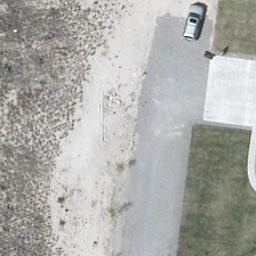car: (180, 3, 207, 43)
